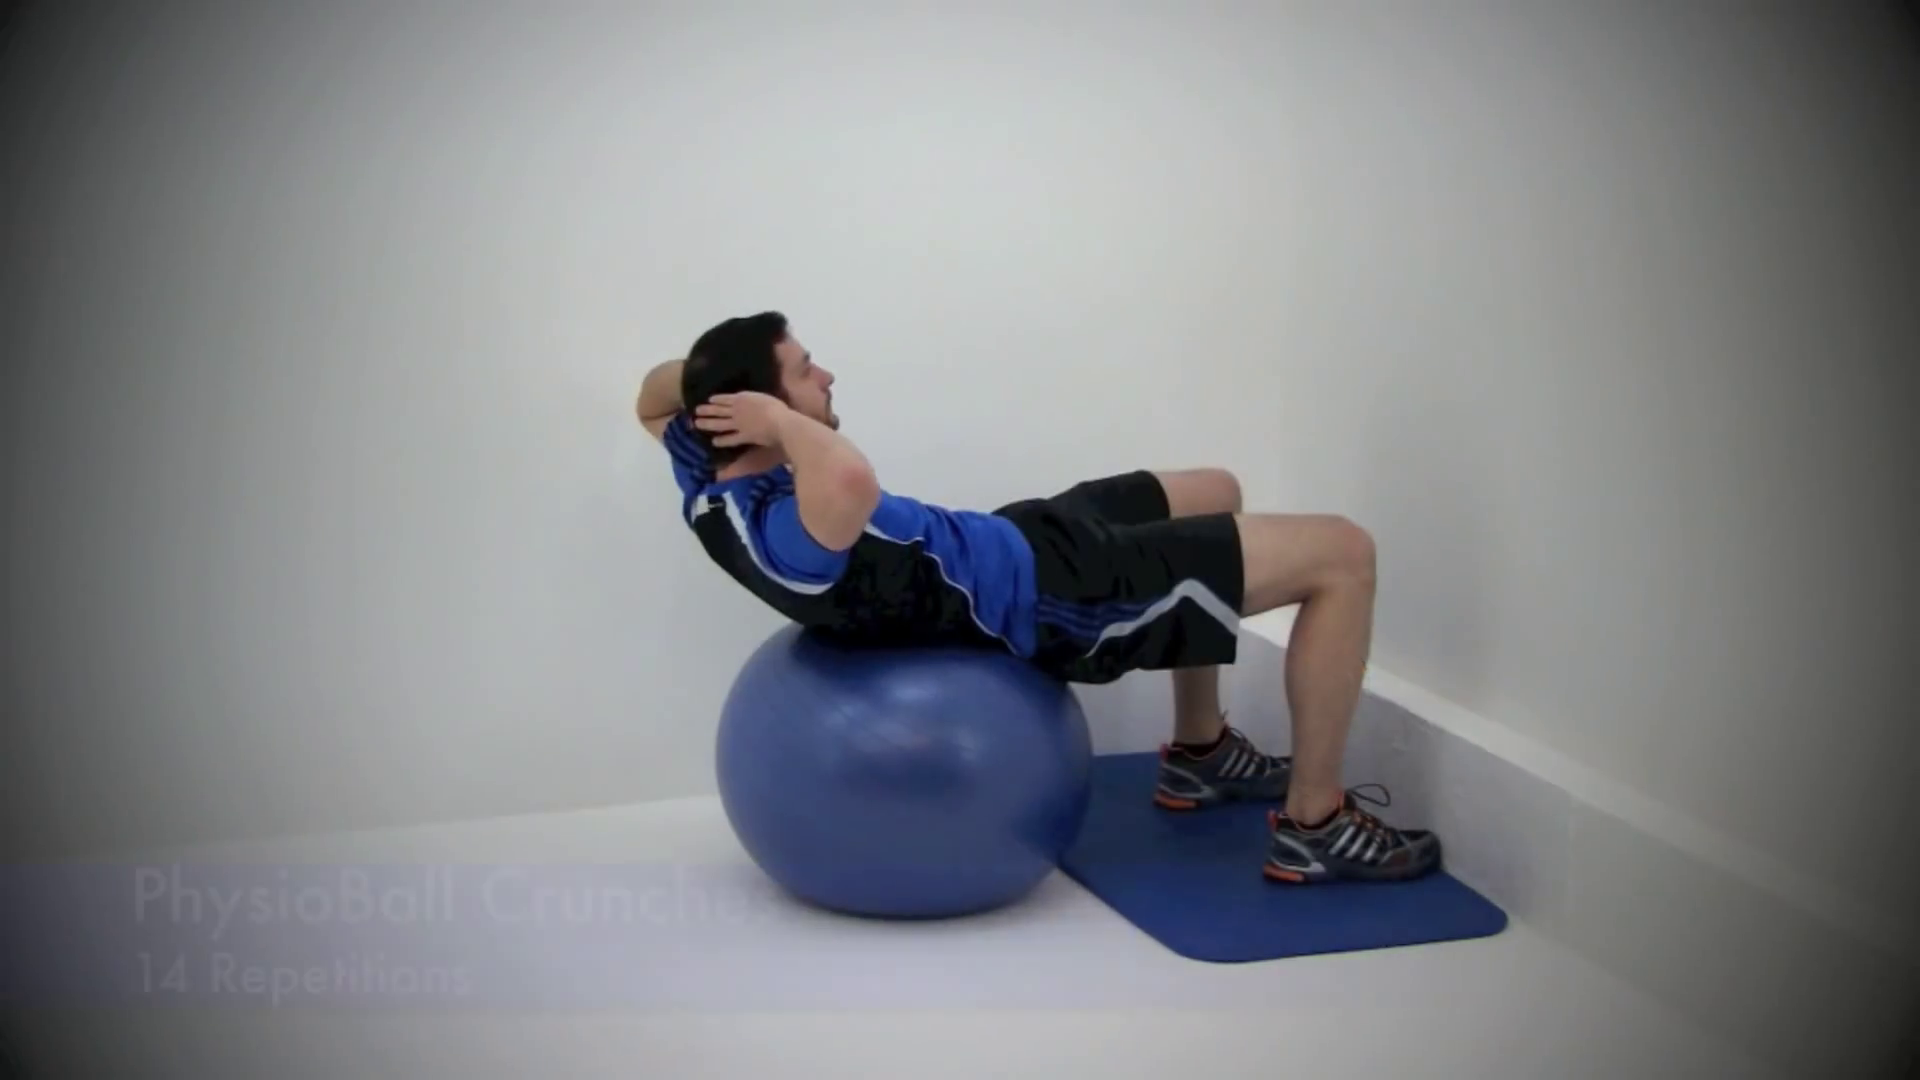yogaball: (700, 605, 1102, 927)
